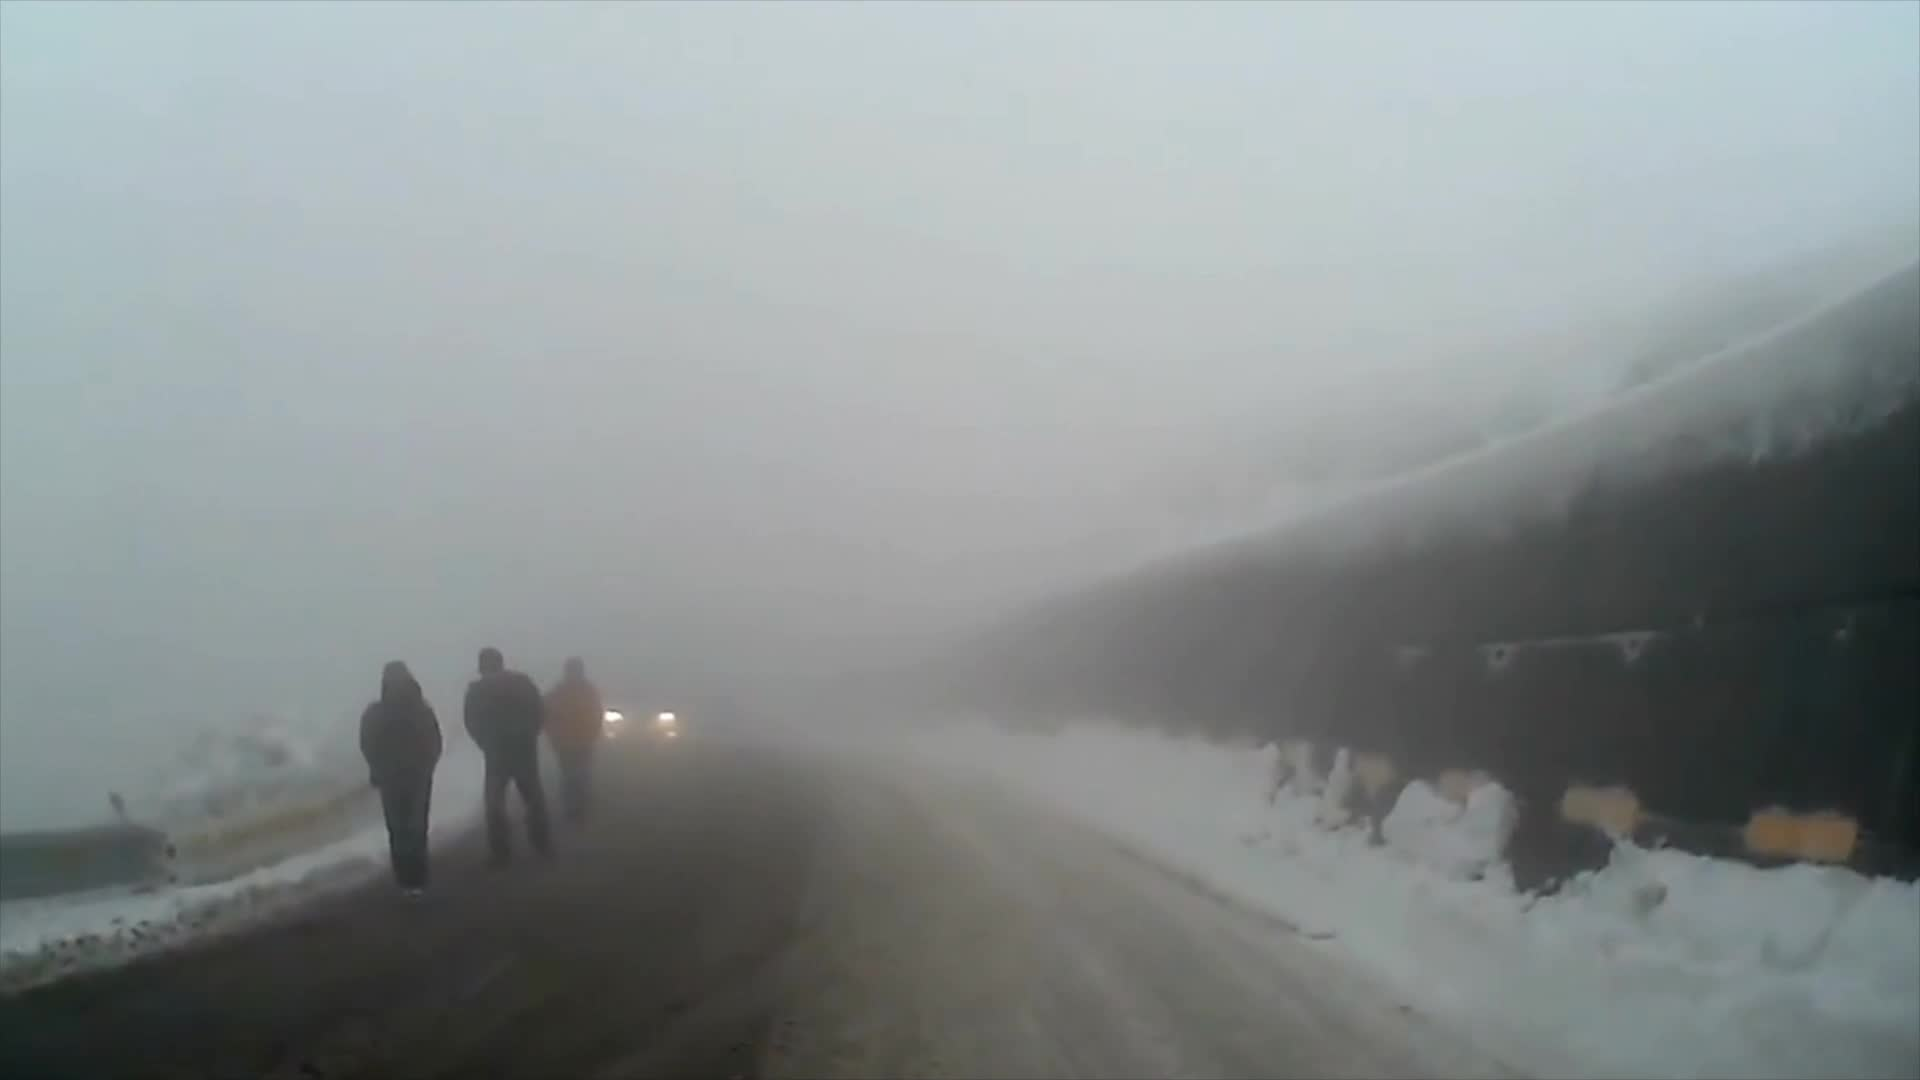pedestrian: (362, 652, 446, 900), (463, 647, 549, 867), (542, 655, 607, 826)
vehicle: (592, 684, 682, 758)
